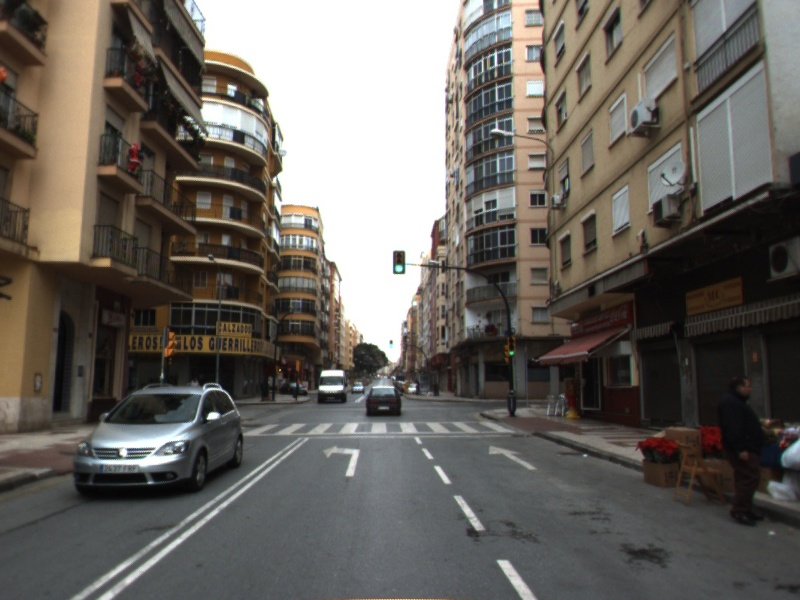LEFT: (321, 443, 362, 478)
STRAIGHT: (487, 443, 539, 471)
